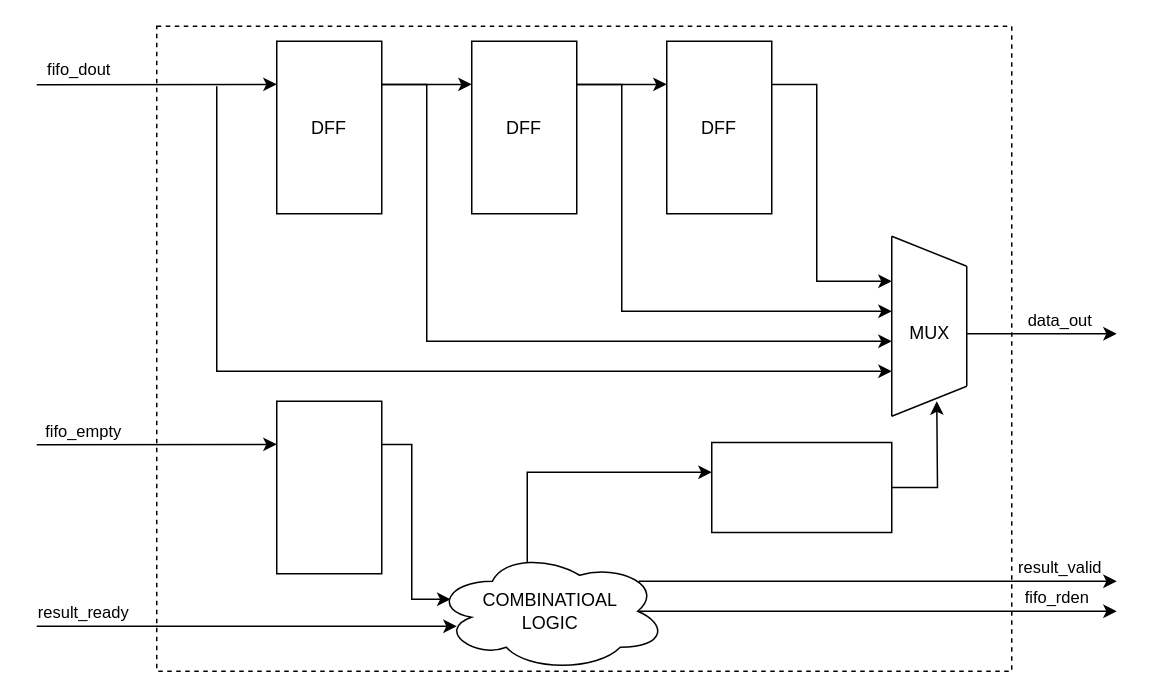
This 1155x698 diagram has some shape labels left out. The shapes that lost their labels are listed below. From the top down, each one's centre as x and y in pixels, then its label:
At point 328,487: "Empty Flag".
At point 801,486: "counter".
